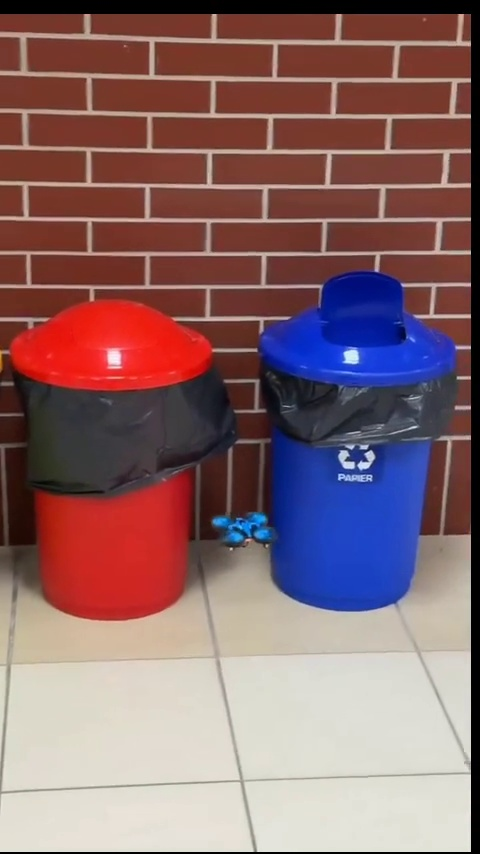drone: (214, 513, 278, 552)
